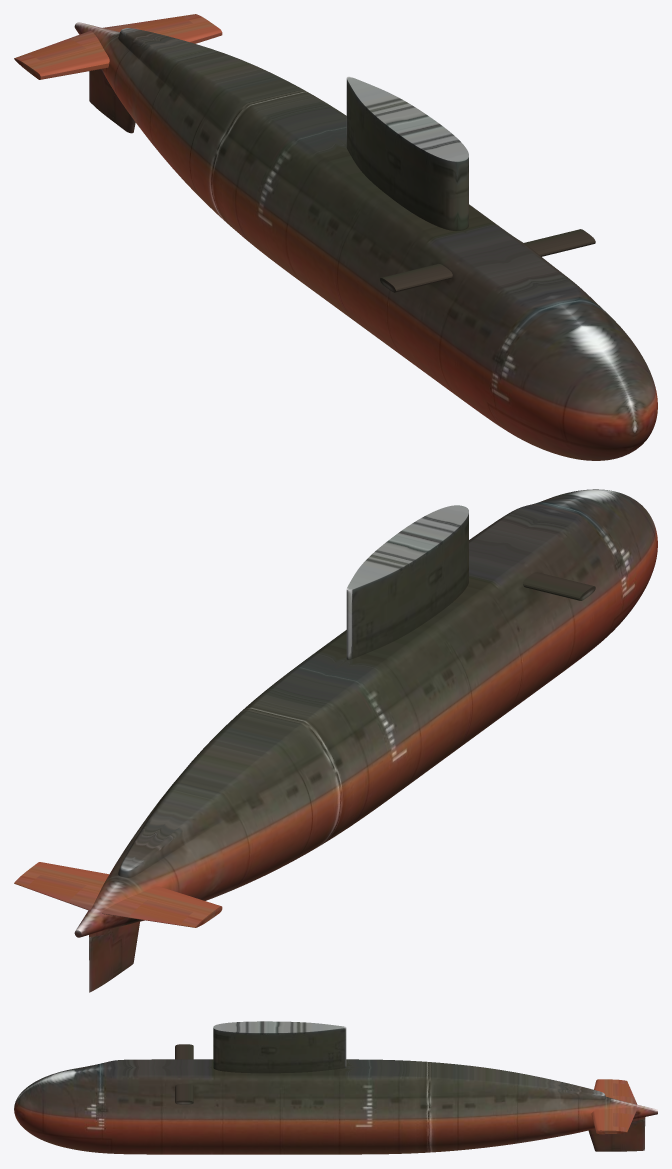
3 renders of one model, top to bottom at view 1: azimuth 30°, elevation 25°; view 2: azimuth 150°, elevation 25°; view 3: azimuth 270°, elevation 25°, orthographic. The views are drawn at different scales.
Parts seen in each view (by area): view 1: Объект_Куб_Объект_Куб_Объект_К_465b21f, Объект_Куб_Объект_Куб_1, Объект_Куб_Объект_Куб_1_2; view 2: Объект_Куб_Объект_Куб_Объект_К_465b21f, Объект_Куб_Объект_Куб_1, Объект_Куб_Объект_Куб_1_2; view 3: Объект_Куб_Объект_Куб_Объект_К_465b21f, Объект_Куб_Объект_Куб_1_2, Объект_Куб_Объект_Куб_1.
Part boxes in pixels (x1,y1,x2,y2): Объект_Куб_Объект_Куб_Объект_К_465b21f: (14, 14, 657, 460); Объект_Куб_Объект_Куб_1: (28, 16, 192, 60); Объект_Куб_Объект_Куб_1_2: (89, 69, 115, 118); Объект_Куб_Объект_Куб_Объект_К_465b21f: (14, 489, 657, 978); Объект_Куб_Объект_Куб_1: (27, 875, 192, 925); Объект_Куб_Объект_Куб_1_2: (89, 933, 121, 992); Объект_Куб_Объект_Куб_Объект_К_465b21f: (14, 1021, 657, 1154); Объект_Куб_Объект_Куб_1_2: (611, 1119, 645, 1151); Объект_Куб_Объект_Куб_1: (613, 1083, 634, 1127).
Size of the model in its own units: 45.26 by 46.31 by 219.
Materials: 1 (1 with a texture image).
